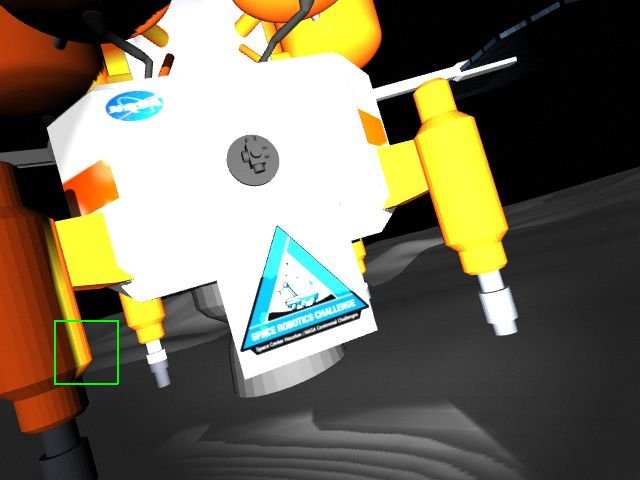basemarker: (241, 224, 371, 357)
